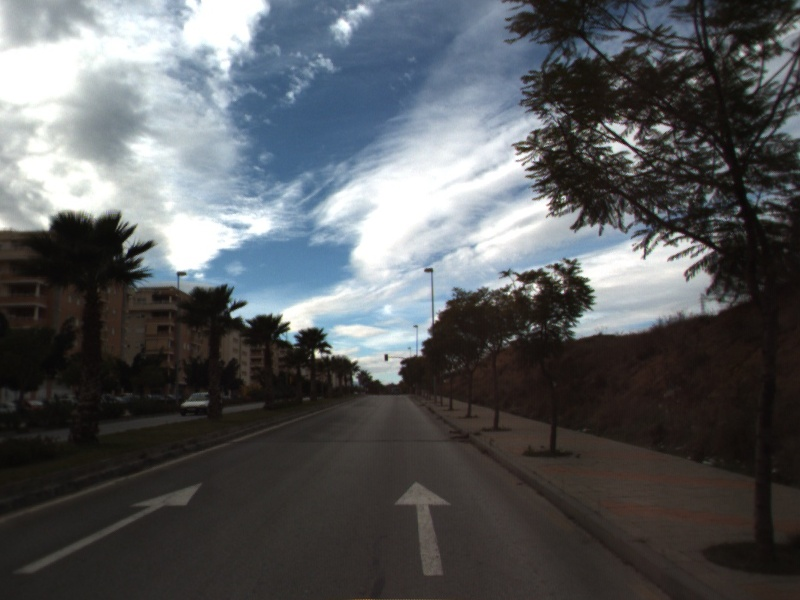STRAIGHT: (11, 480, 206, 576), (392, 479, 454, 578)
